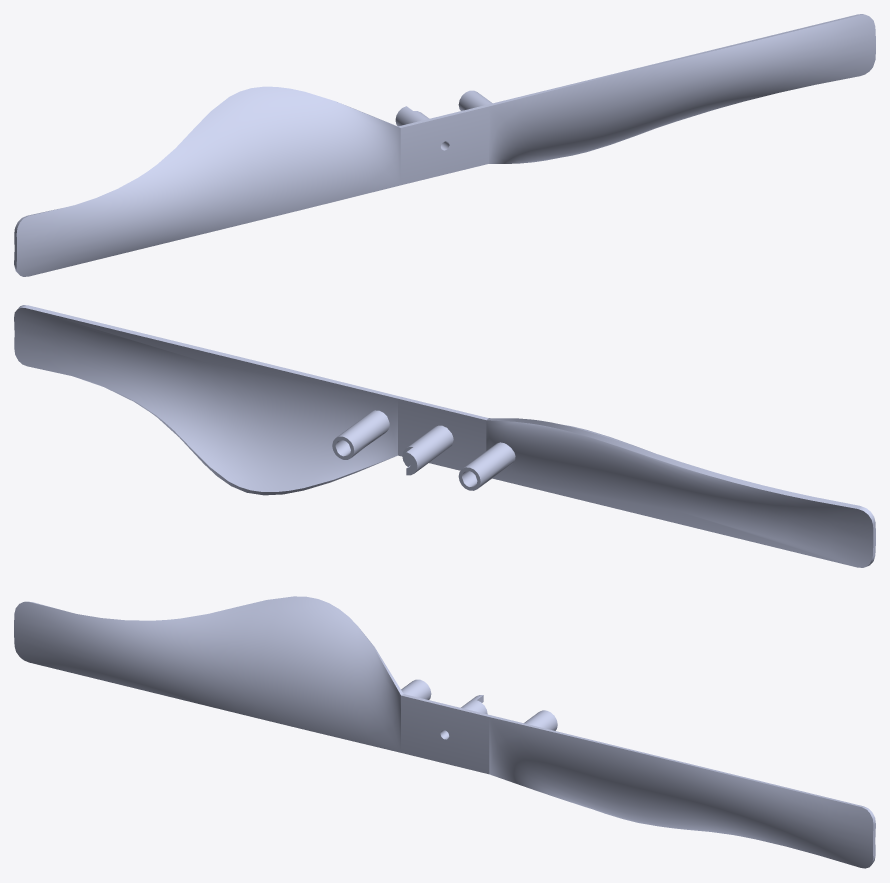
Rendered from rotor.obj.
3 renders of one model, top to bottom at view 1: azimuth 30°, elevation 25°; view 2: azimuth 150°, elevation 25°; view 3: azimuth 330°, elevation 25°, orthographic.
Visible parts, largest first — view 1: Wing_06_body1; view 2: Wing_06_body1; view 3: Wing_06_body1.
Boxes of the visible parts, x1,y1,x2,y2 form: Wing_06_body1: (14, 14, 875, 276); Wing_06_body1: (14, 305, 875, 567); Wing_06_body1: (14, 596, 875, 868).
Size of the model in its own units: 1.95 by 0.3139 by 0.1601.
